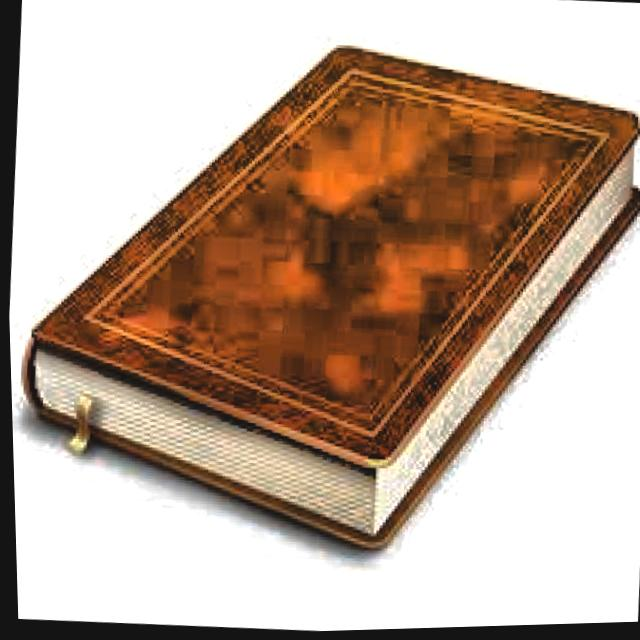Paper: (1, 15, 640, 575)
